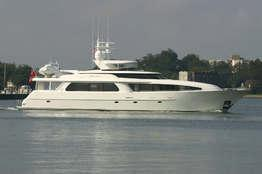yacht: (23, 39, 253, 111)
